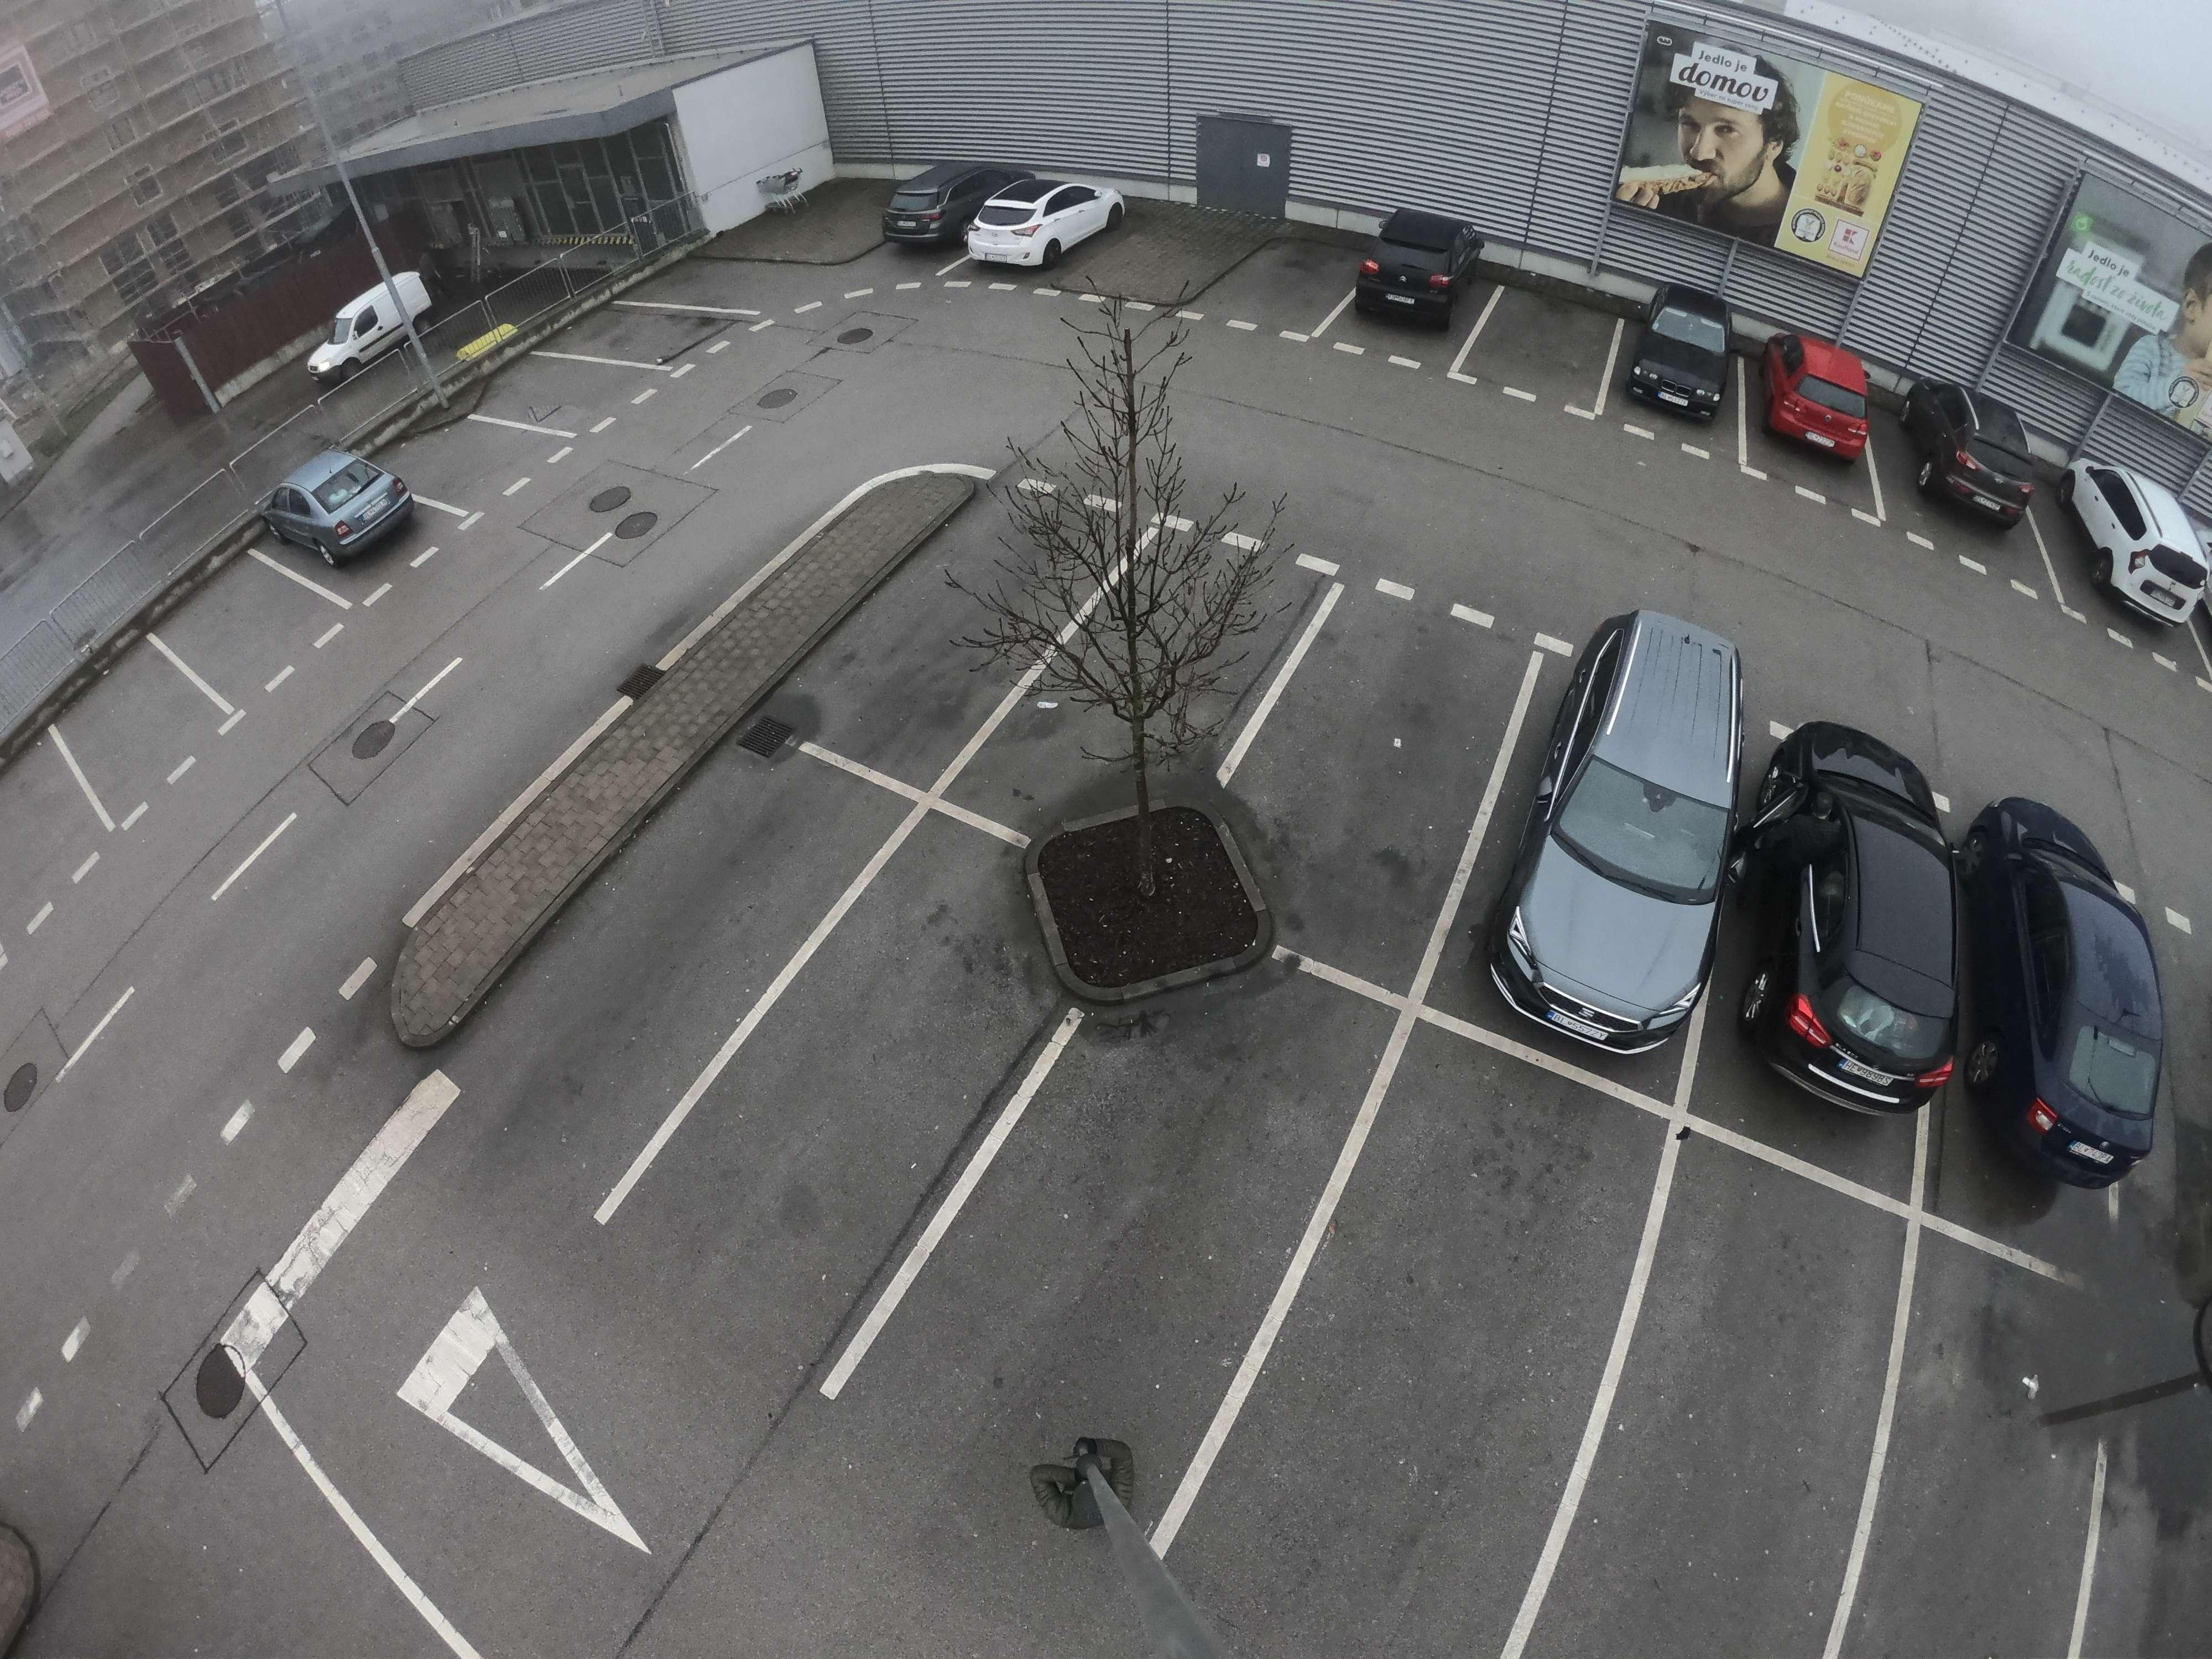empty: (1472, 584, 1777, 1046), (1973, 775, 2188, 1192), (1749, 721, 1979, 1107), (2055, 457, 2212, 626), (1606, 282, 1749, 427), (1918, 376, 2059, 523), (260, 444, 423, 570), (1752, 326, 1885, 476), (1350, 216, 1489, 340), (968, 173, 1120, 275), (874, 166, 1000, 254)
occupied: (1312, 1211, 1588, 1493), (1620, 1314, 1864, 1586), (1000, 1127, 1264, 1345), (752, 992, 982, 1171), (516, 843, 749, 1012), (1876, 1445, 2074, 1635), (1068, 599, 1242, 793), (1294, 671, 1487, 833), (840, 565, 1050, 708), (188, 575, 305, 673), (0, 774, 89, 901), (71, 673, 183, 770), (1496, 310, 1597, 383), (503, 366, 601, 436), (425, 427, 512, 498), (1115, 237, 1212, 300), (599, 310, 695, 366), (1240, 263, 1332, 319), (700, 260, 798, 312)
